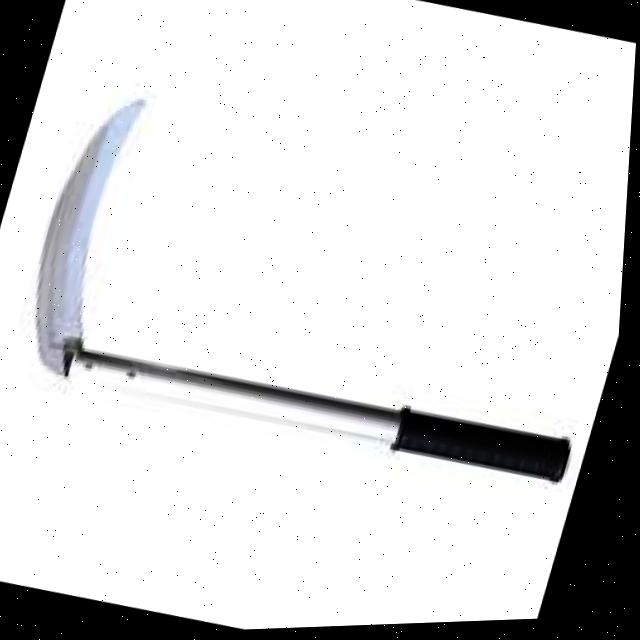sickle: (0, 21, 638, 534)
